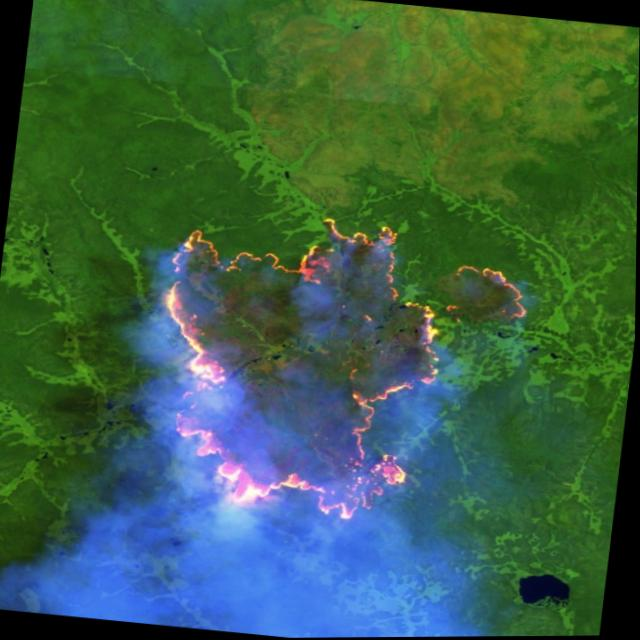fire: (132, 197, 540, 543)
